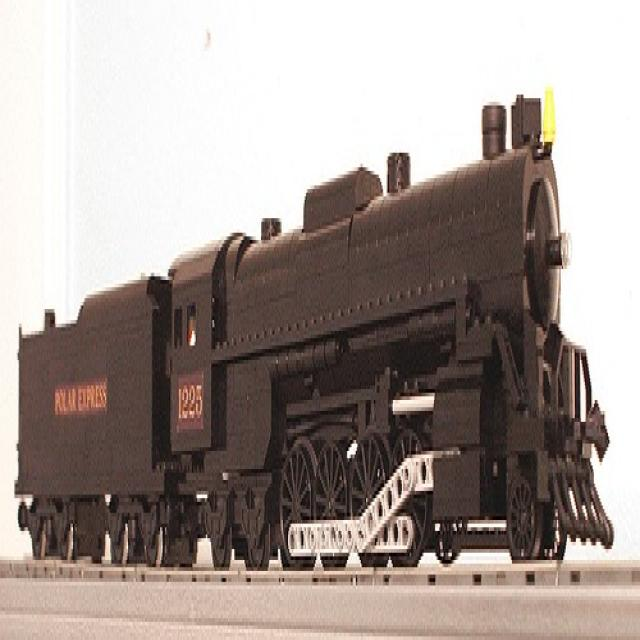train: (14, 74, 617, 583)
